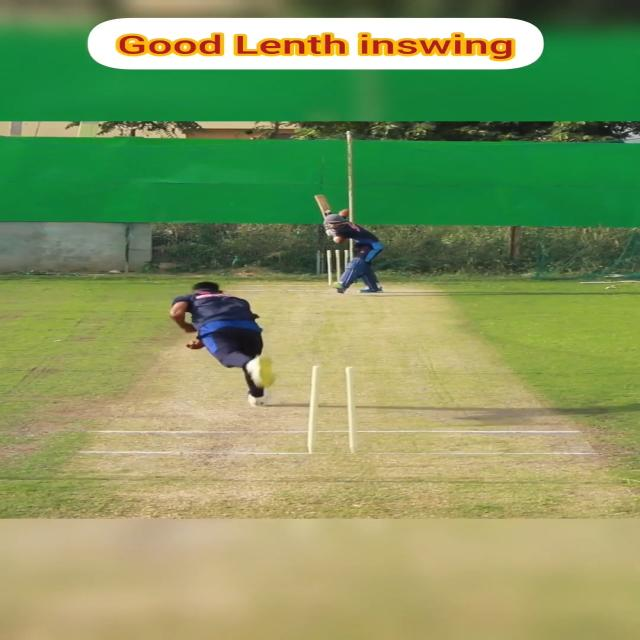stump: (305, 364, 360, 454), (325, 250, 350, 286)
